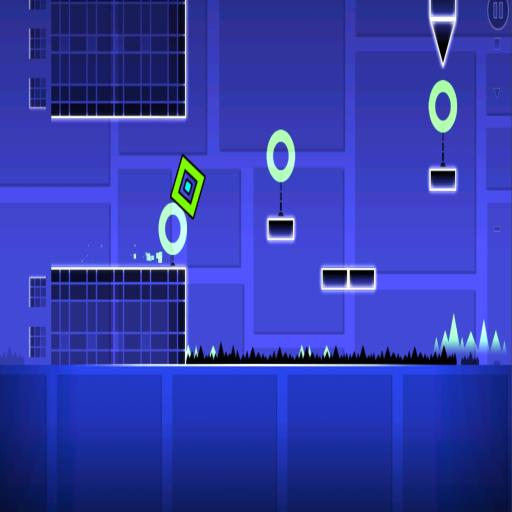block: (24, 0, 190, 121), (48, 265, 190, 370), (320, 268, 379, 293), (425, 162, 461, 197), (265, 217, 297, 243), (28, 322, 48, 360), (27, 272, 46, 308), (428, 0, 458, 20)
player: (170, 155, 205, 219)
spike: (433, 23, 453, 65), (447, 314, 459, 352), (478, 321, 488, 355), (465, 331, 476, 357), (490, 331, 501, 353), (439, 330, 448, 352), (323, 346, 330, 357), (210, 346, 216, 358), (434, 338, 439, 352), (299, 345, 304, 356), (502, 342, 506, 354), (308, 346, 311, 357), (187, 346, 190, 357), (461, 338, 463, 350), (195, 346, 197, 358)
